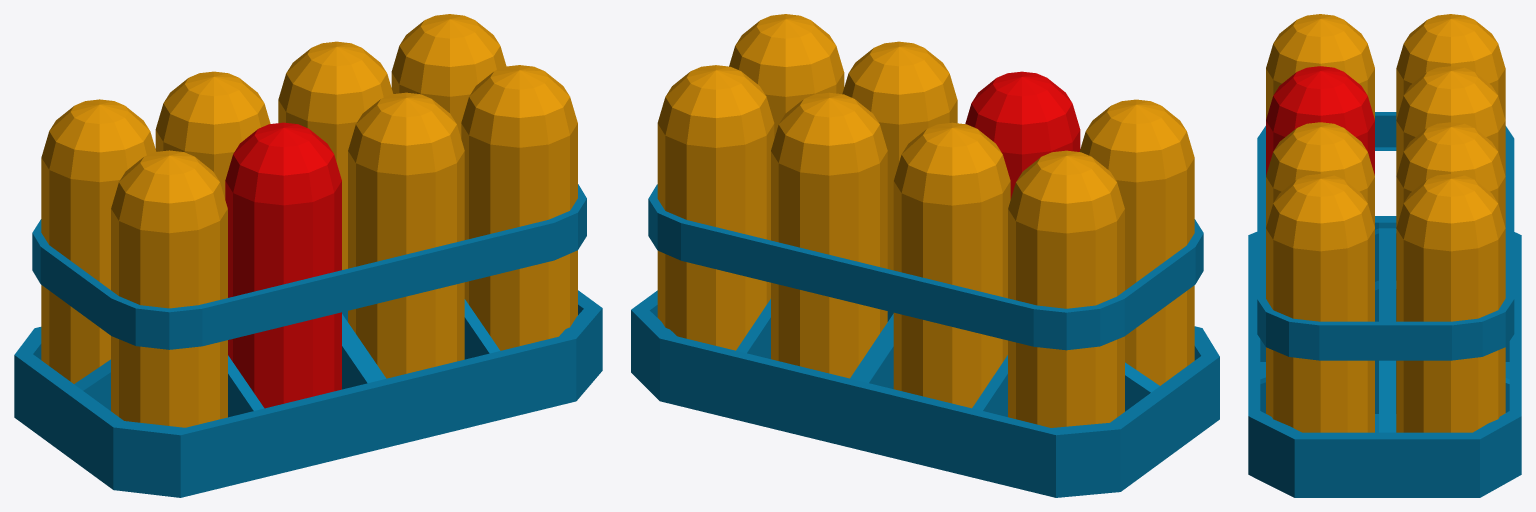
File: Capsules.fbx
The picture shows the model from 3 angles, left to right: view 1: azimuth 30°, elevation 25°; view 2: azimuth 150°, elevation 25°; view 3: azimuth 270°, elevation 25°; orthographic projection. The views are drawn at different scales.
Visible parts, largest first — view 1: Capsules; view 2: Capsules; view 3: Capsules.
Boxes of the visible parts, x1,y1,x2,y2 form: Capsules: (14, 14, 602, 497); Capsules: (631, 14, 1219, 497); Capsules: (1248, 14, 1521, 497).
Size of the model in its own units: 6.84 by 4.11 by 3.54.
